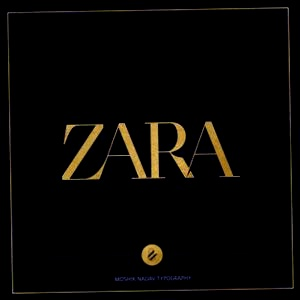zara: (228, 56, 271, 166)
